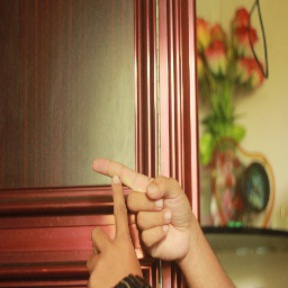T: (79, 153, 168, 261)
